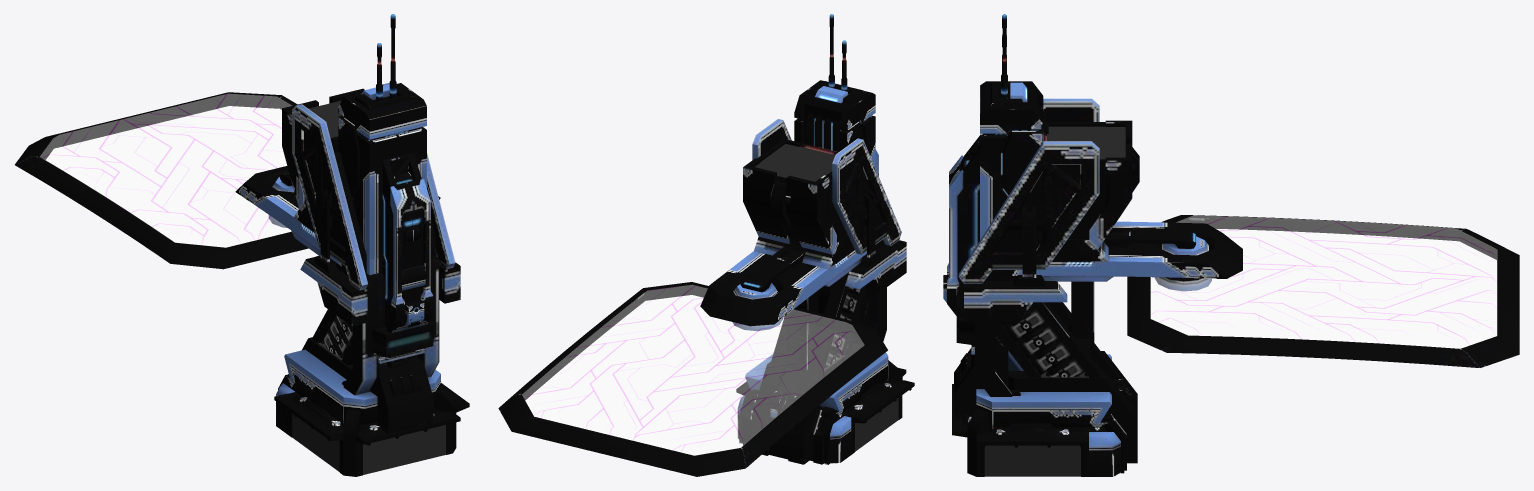
The picture shows the model from 3 angles, left to right: view 1: azimuth 30°, elevation 25°; view 2: azimuth 150°, elevation 25°; view 3: azimuth 270°, elevation 25°; orthographic projection. The views are drawn at different scales.
Visible parts, largest first — view 1: mining-drill-mk2; view 2: mining-drill-mk2; view 3: mining-drill-mk2.
Boxes of the visible parts, <box> form: mining-drill-mk2: <box>15,14,469,476</box>; mining-drill-mk2: <box>498,14,914,476</box>; mining-drill-mk2: <box>943,14,1519,476</box>.
Size of the model in its own units: 12 by 18.45 by 21.99.
Materials: 3 (2 with a texture image).
